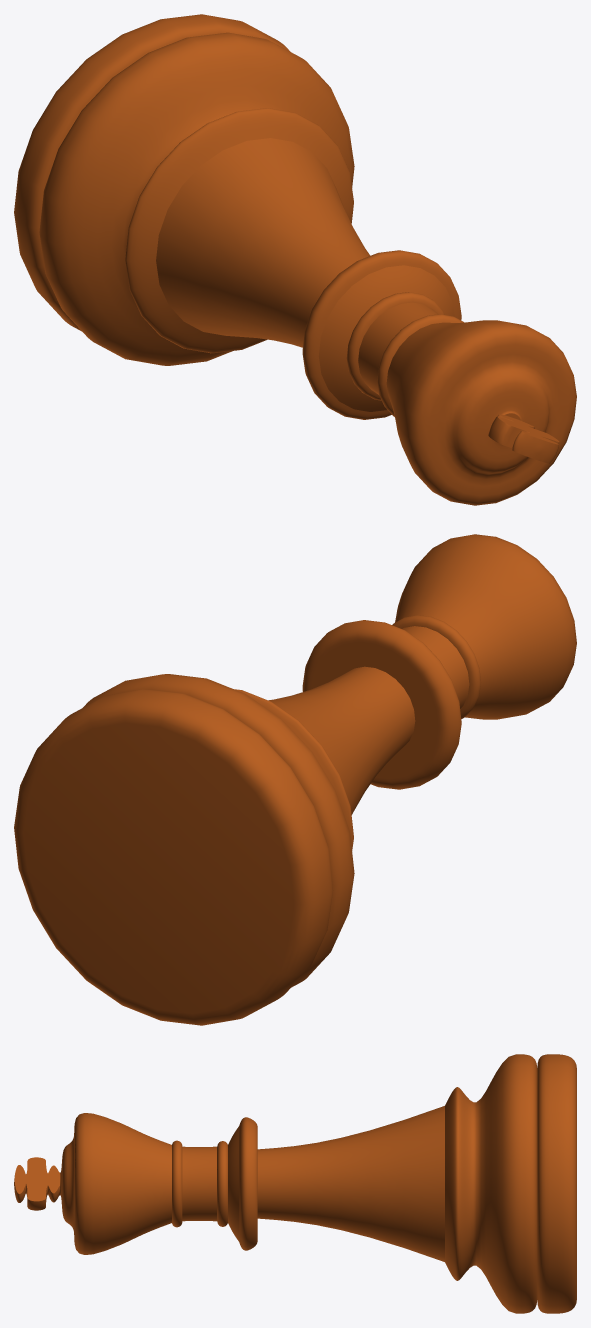
Rendered from king.obj.
3 views of the same model, one above another, from view 1: azimuth 30°, elevation 25°; view 2: azimuth 150°, elevation 25°; view 3: azimuth 270°, elevation 25° (orthographic). The views are drawn at different scales.
Parts seen in each view (by area): view 1: korol_; view 2: korol_; view 3: korol_.
Part boxes in pixels (x1,y1,x2,y2): korol_: (14,14,576,505); korol_: (14,534,576,1025); korol_: (14,1054,576,1313).
Bounding box in the file's own units: 44.91 × 44.91 × 96.94.
